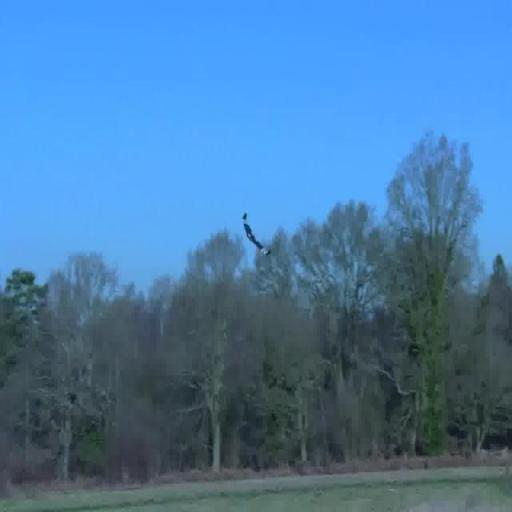uav: (239, 210, 273, 264)
